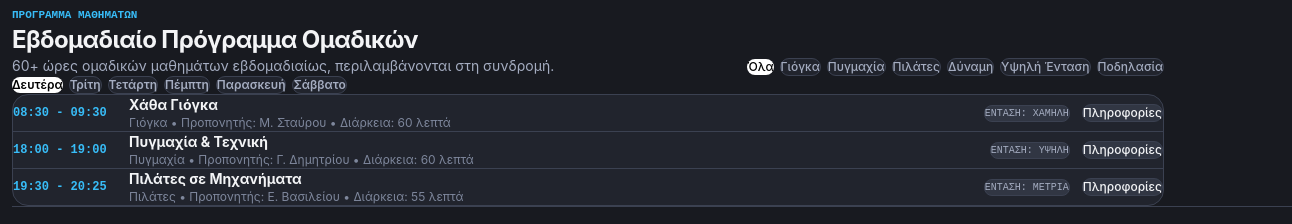
Test: Timetable (the public class schedule) › shows an empty day honestly instead of the previous day's classes
The width and height of the screenshot is (1292, 224).
Expected: the text "Χάθα Γιόγκα" is shown, [129, 96, 218, 113]
Step 1. Click the button "Σάββατο" → (320, 85), box [292, 76, 347, 94]
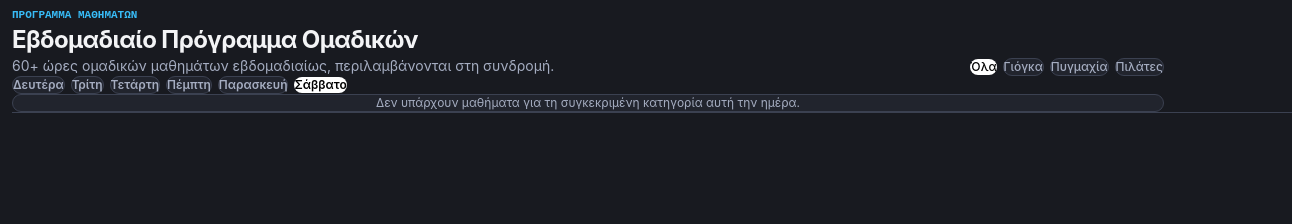
Expected: the text "Χάθα Γιόγκα" is gone
Expected: the text "Πυγμαχία & Τεχνική" is gone
Expected: the text "Πιλάτες σε Μηχανήματα" is gone
